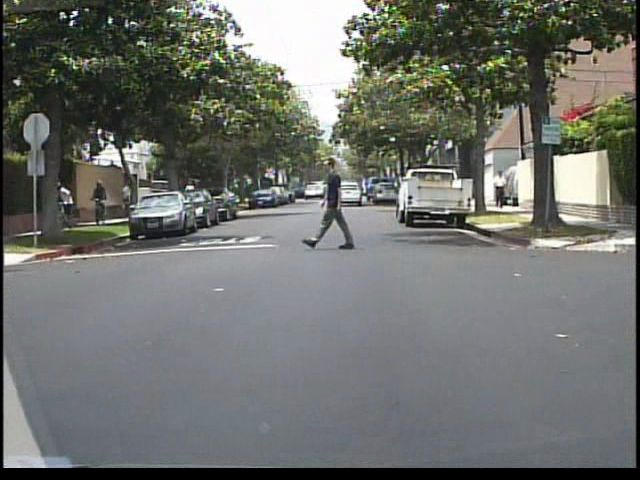person: (305, 152, 361, 254), (53, 177, 79, 227), (491, 168, 510, 212), (89, 176, 111, 203), (182, 176, 198, 212)
